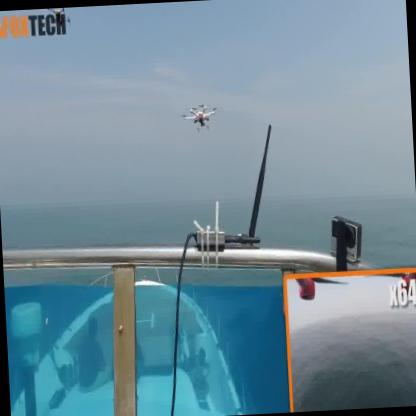drone: (174, 91, 228, 142)
